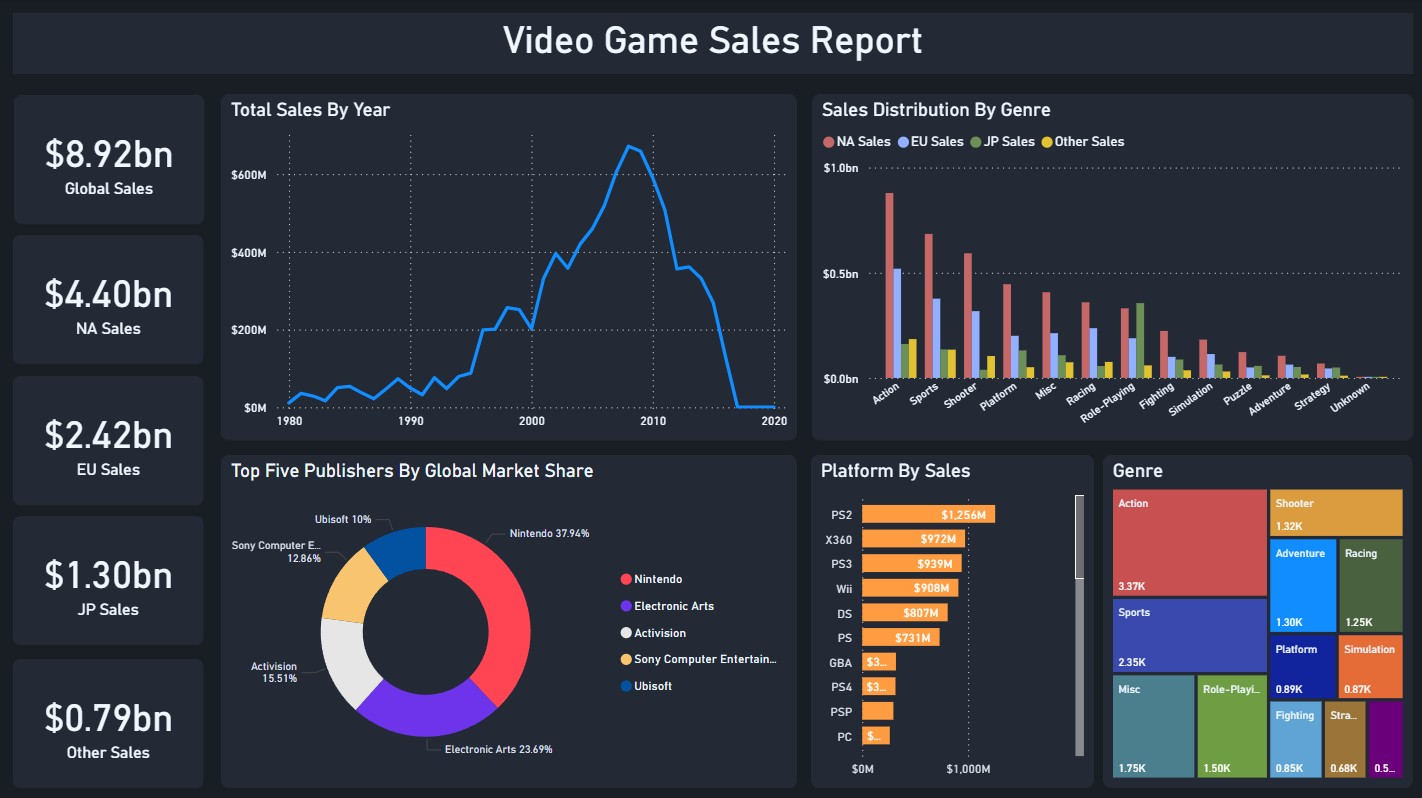

The dashboard page shown, as its layout file describes it:
{"tool":"powerbi","page":{"name":"Page 1","canvas":[1280,720],"ordinal":0},"visuals":[{"type":"treemap","title":"Genre","fields":{"Group":["Video_Games_Sales_as_at_22_Dec_2016.Genre"],"Values":["CountNonNull(Video_Games_Sales_as_at_22_Dec_2016.Genre)"]},"box":[992.1,410.5,278.2,298.6],"z":0},{"type":"card","fields":{"Values":["ALL MEASURES.GB_sales_m"]},"box":[14,86.8,170.6,115.7],"z":1000},{"type":"card","fields":{"Values":["ALL MEASURES.NA_sales_m"]},"box":[13.6,213,171.2,115.7],"z":2000},{"type":"card","fields":{"Values":["ALL MEASURES.EU_sales_m"]},"box":[13.6,339.5,171.2,115.7],"z":3000},{"type":"card","fields":{"Values":["ALL MEASURES.JP_sales_m"]},"box":[13.6,464.9,171.2,115.7],"z":4000},{"type":"barChart","title":"Platform By Sales","fields":{"Category":["Video_Games_Sales.Platform"],"Y":["ALL MEASURES.GB_sales_m"]},"box":[730.3,410,254.4,299.3],"z":5000},{"type":"card","fields":{"Values":["ALL MEASURES.ot_sales_m"]},"box":[13.6,593.3,171.2,115.7],"z":6000},{"type":"lineChart","title":"Total Sales By Year","fields":{"Category":["Video_Games_Sales.Year_of_Release"],"Y":["ALL MEASURES.GB_sales_m"]},"box":[200.4,86.6,517.4,311.2],"z":7000},{"type":"clusteredColumnChart","title":"Sales Distribution By Genre","fields":{"Category":["Video_Games_Sales.Genre"],"Y":["ALL MEASURES.NA_sales_m","ALL MEASURES.EU_sales_m","ALL MEASURES.JP_sales_m","ALL MEASURES.ot_sales_m"]},"box":[730.5,86.6,539.8,311.2],"z":8000},{"type":"textbox","box":[13.6,13.6,1256.7,55.4],"z":9000},{"type":"donutChart","title":"Top Five Publishers By Global Market Share","fields":{"Category":["Video_Games_Sales.Publisher"],"Y":["Sum(Video_Games_Sales.Global_Sales)"]},"box":[200.4,410.5,517.4,298.6],"z":10000}]}

Visuals, with their boxes in screenshot pixels (x1, y1, x2, y2), scaled from the page's 1280x720 canvas onto the 1422x798 screenshot:
"Genre" treemap: [1102,455,1411,786]
card - ALL MEASURES.GB_sales_m: [16,96,205,224]
card - ALL MEASURES.NA_sales_m: [15,236,205,364]
card - ALL MEASURES.EU_sales_m: [15,376,205,505]
card - ALL MEASURES.JP_sales_m: [15,515,205,643]
"Platform By Sales" barChart: [811,454,1094,786]
card - ALL MEASURES.ot_sales_m: [15,658,205,786]
"Total Sales By Year" lineChart: [223,96,797,441]
"Sales Distribution By Genre" clusteredColumnChart: [812,96,1411,441]
textbox: [15,15,1411,76]
"Top Five Publishers By Global Market Share" donutChart: [223,455,797,786]
